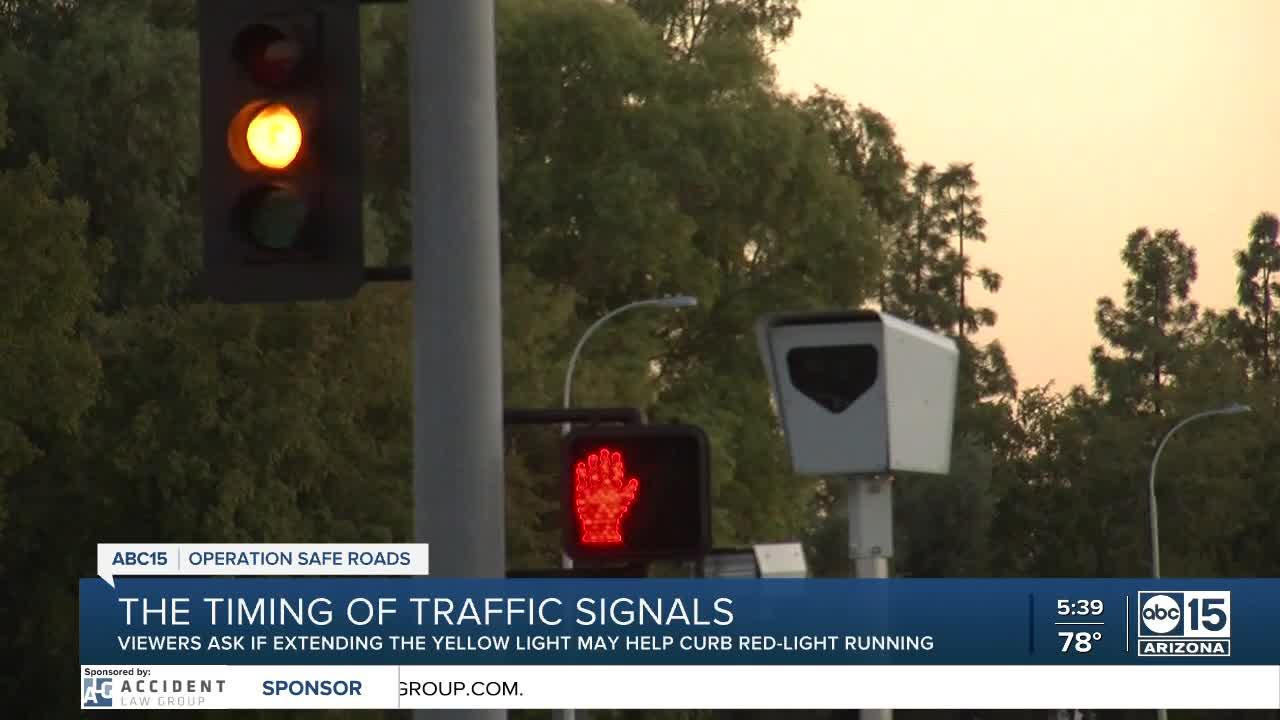yellow_light: (198, 2, 364, 301)
